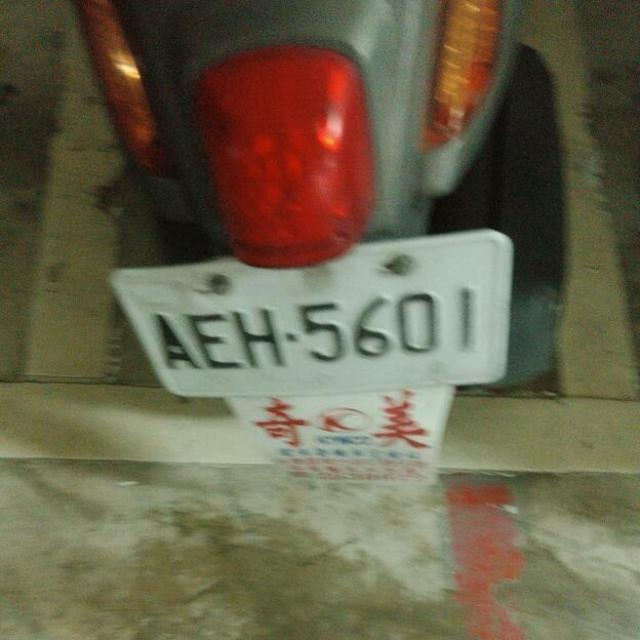W: (93, 200, 534, 446)
